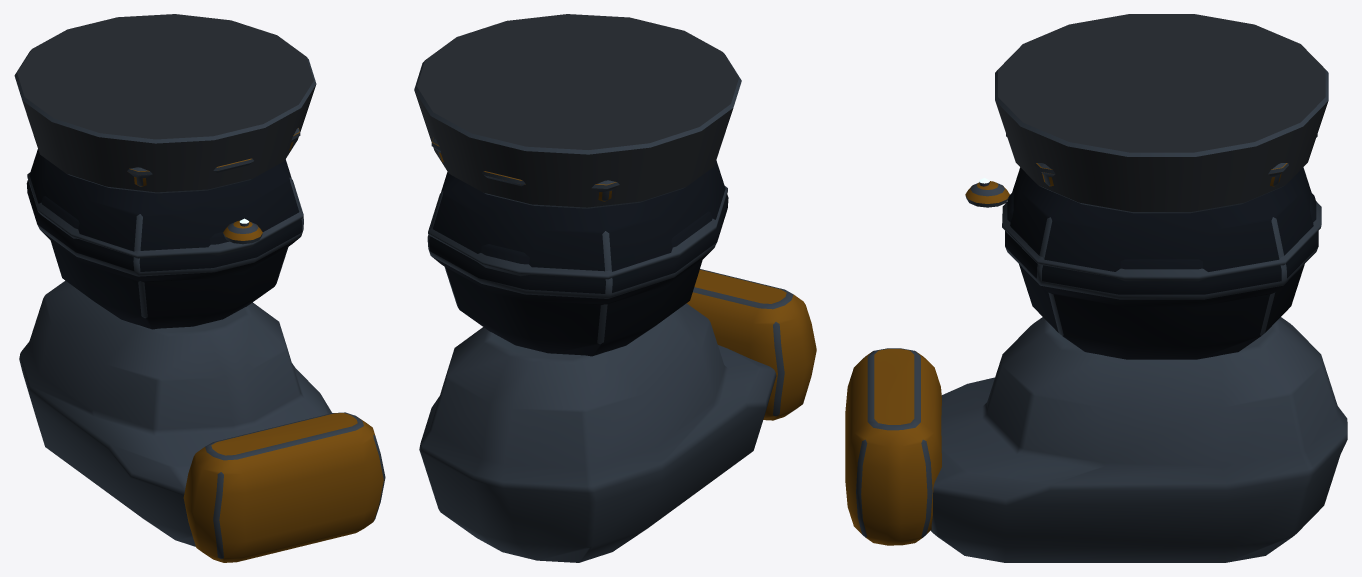
The model's file is Runica_BotaR.fbx.
3 renders of one model, left to right at view 1: azimuth 30°, elevation 25°; view 2: azimuth 150°, elevation 25°; view 3: azimuth 270°, elevation 25°, orthographic. The views are drawn at different scales.
Visible parts, largest first — view 1: Piece; view 2: Piece; view 3: Piece.
Part boxes in pixels (x1,y1,x2,y2): Piece: [14, 14, 385, 562]; Piece: [414, 14, 816, 562]; Piece: [845, 14, 1347, 562].
Size of the model in its own units: 0.2144 by 0.3186 by 0.323.
